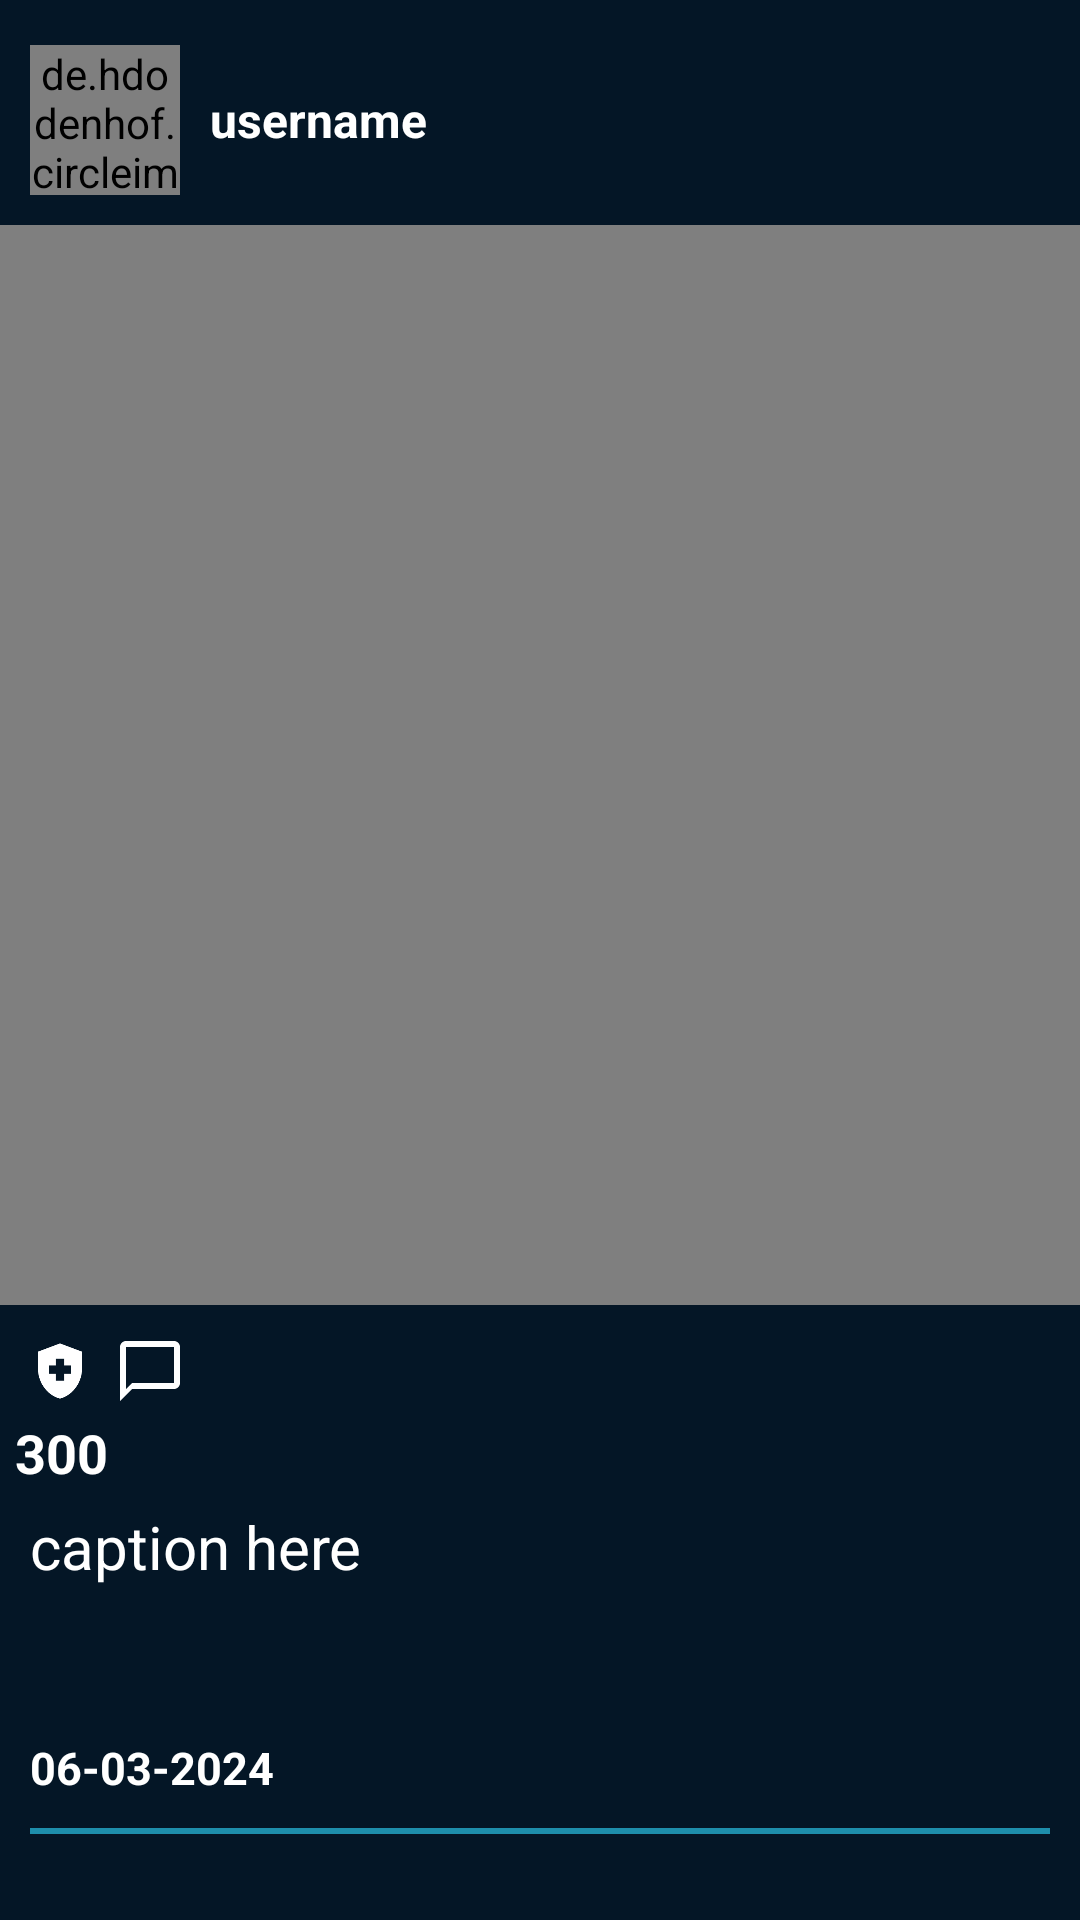

Where icons sit on this 1080w x 1920h app screen, as (x1, y1, x2, y2):
comment: (120, 1341, 180, 1401)
